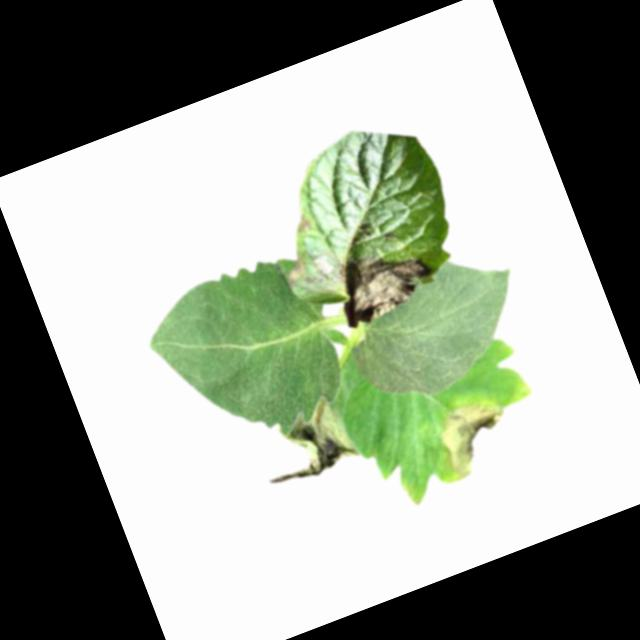Late_blight: (323, 230, 443, 331), (247, 393, 362, 497), (422, 387, 521, 486), (277, 251, 312, 291), (291, 217, 312, 239)
healthy: (134, 243, 362, 470), (331, 238, 542, 416)
